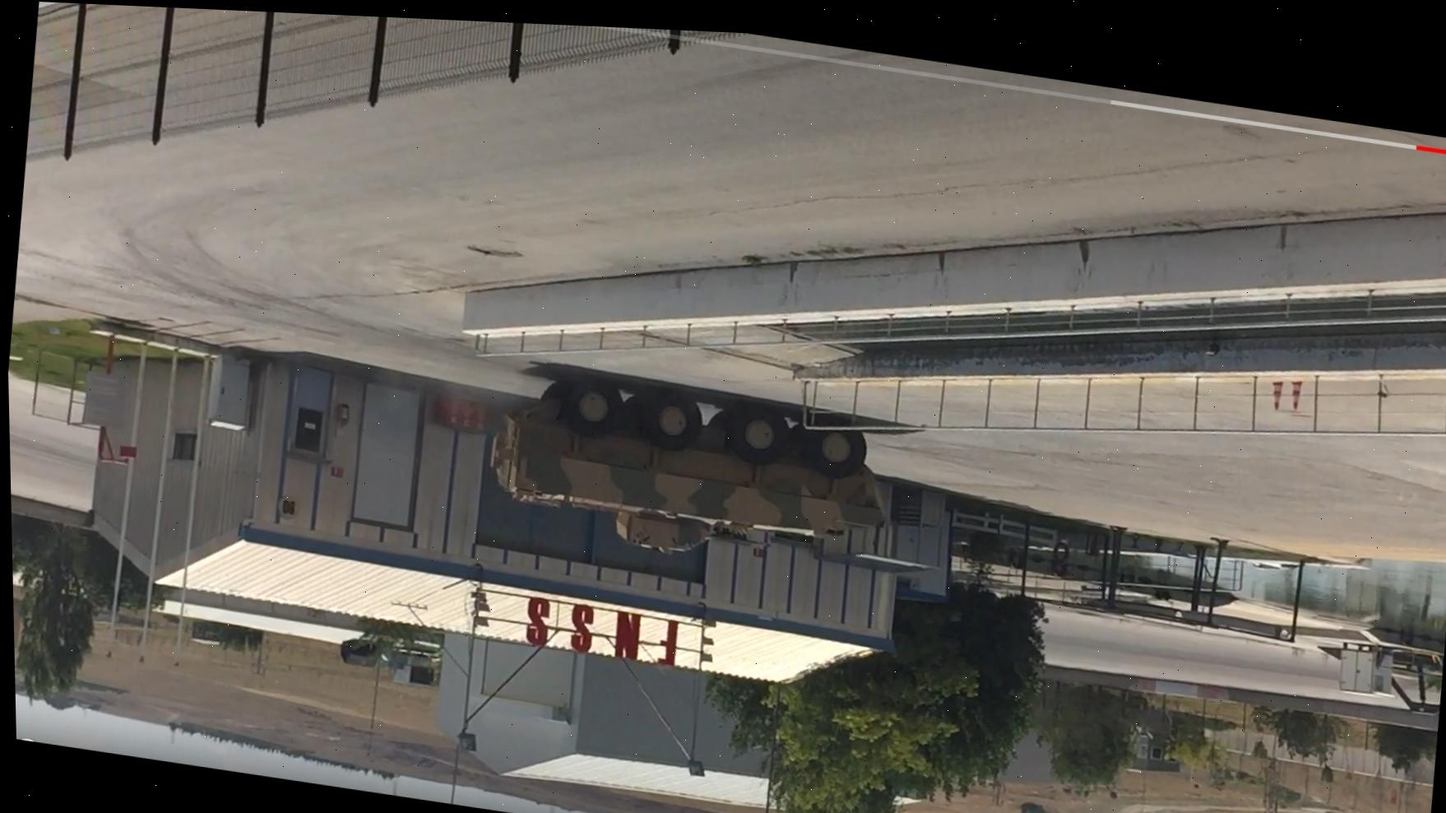armored_car: (480, 358, 908, 590)
